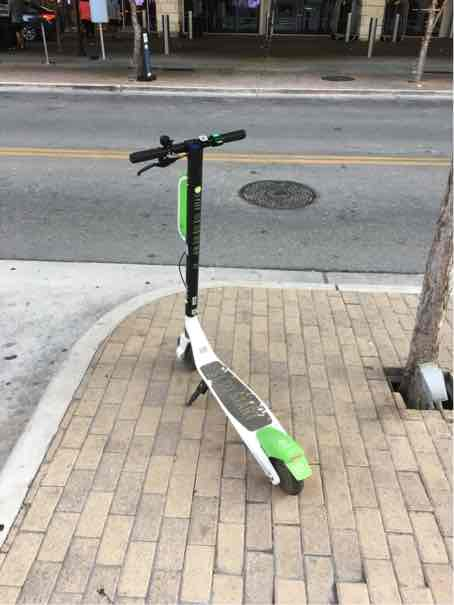scooter: (130, 117, 322, 493)
